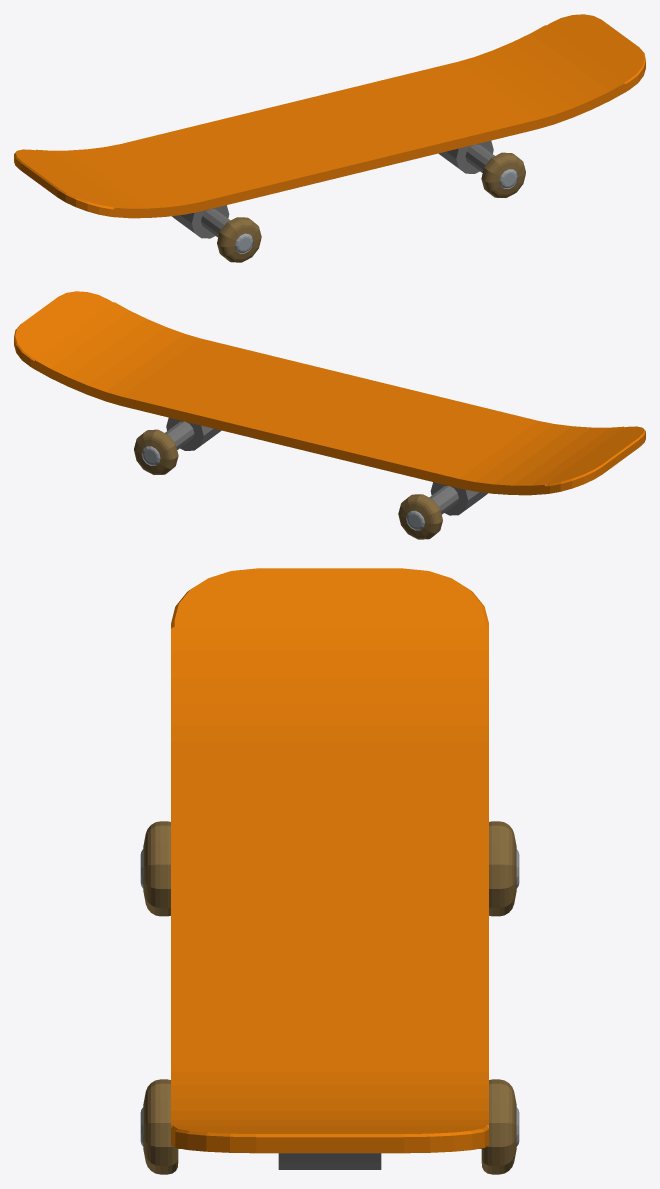
File: skateboard.fbx
3 views of the same model, one above another, from view 1: azimuth 30°, elevation 25°; view 2: azimuth 150°, elevation 25°; view 3: azimuth 270°, elevation 25° (orthographic). The views are drawn at different scales.
Visible parts, largest first — view 1: Plane, Cylinder; view 2: Plane, Cylinder; view 3: Plane, Cylinder.
Boxes of the visible parts, x1=… form: Plane: x1=14, y1=14, x2=645, y2=218; Cylinder: x1=172, y1=140, x2=525, y2=262; Plane: x1=14, y1=291, x2=645, y2=495; Cylinder: x1=134, y1=417, x2=487, y2=539; Plane: x1=171, y1=568, x2=488, y2=1153; Cylinder: x1=140, y1=821, x2=519, y2=1174.
Bounding box in the file's own units: 391 × 61.02 × 110.
